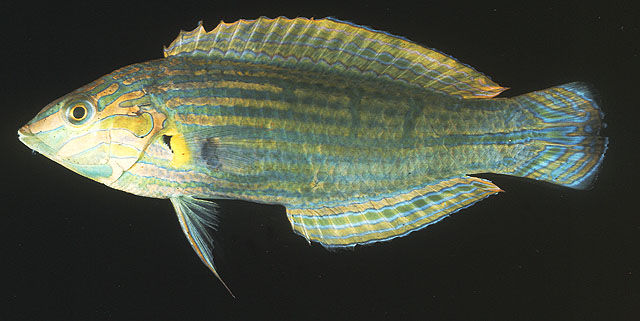fish: (17, 13, 609, 298)
